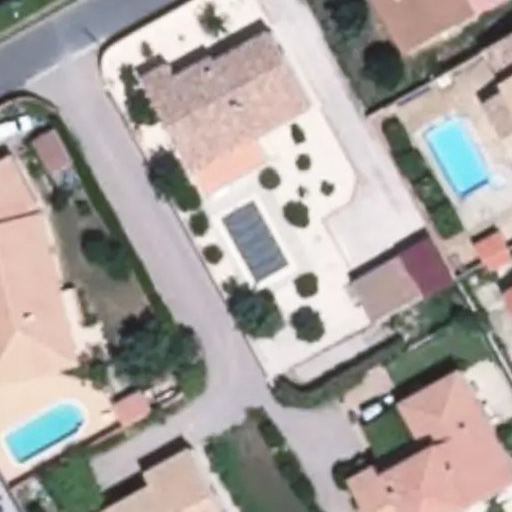pool: (222, 218, 288, 264)
